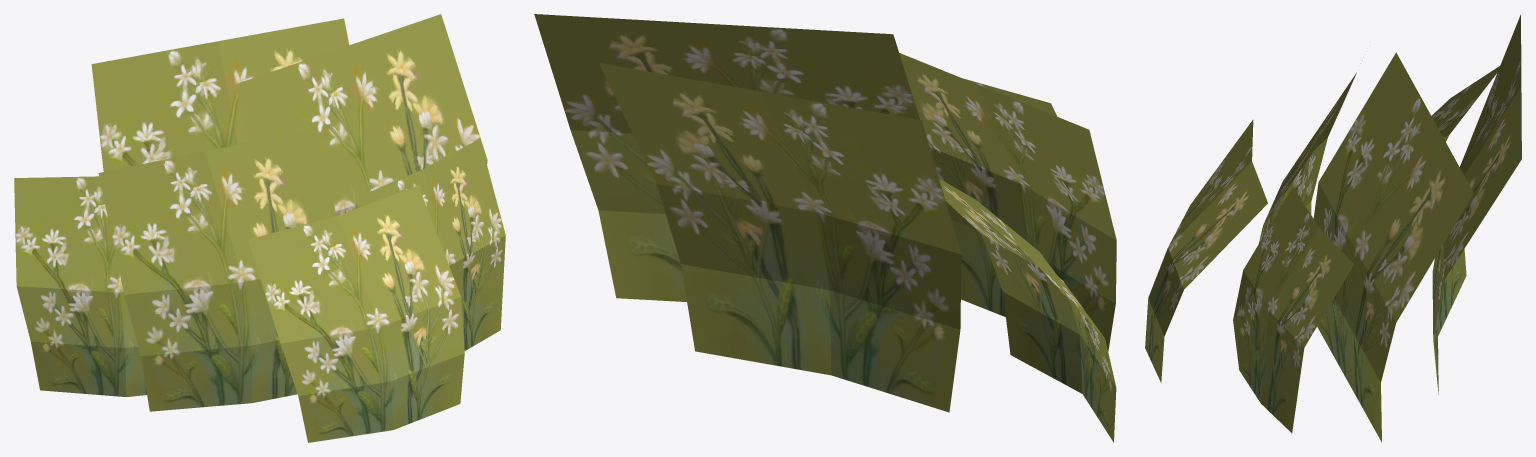
Rendered from object_grass_07.FBX.
The picture shows the model from 3 angles, left to right: view 1: azimuth 30°, elevation 25°; view 2: azimuth 150°, elevation 25°; view 3: azimuth 270°, elevation 25°; orthographic projection. The views are drawn at different scales.
Parts seen in each view (by area): view 1: object_grass_07; view 2: object_grass_07; view 3: object_grass_07.
Part boxes in pixels (x1,y1,x2,y2): object_grass_07: (14,14,505,442); object_grass_07: (534,14,1116,442); object_grass_07: (1145,14,1521,442).
Size of the model in its own units: 338 by 195 by 238.
